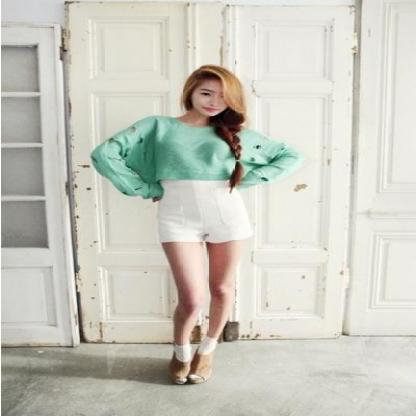jacket: (92, 116, 296, 201)
shoe: (152, 358, 203, 396)
shorts: (146, 180, 252, 364)
